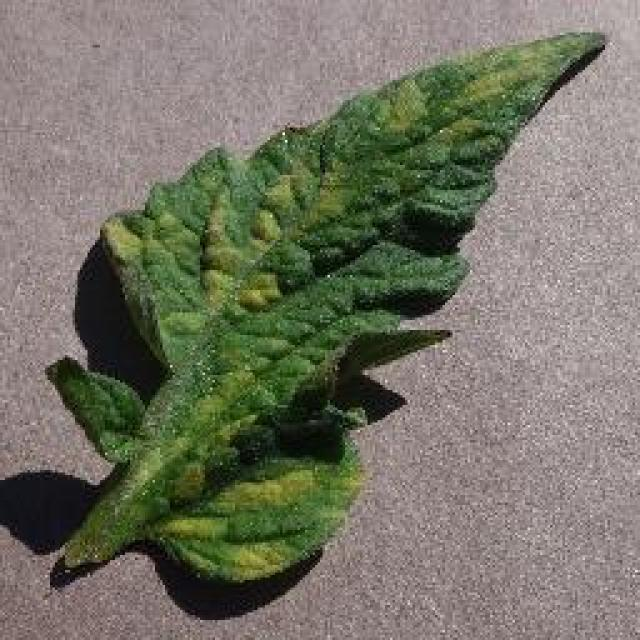Tomato___Leaf_Mold: (48, 32, 598, 582)
